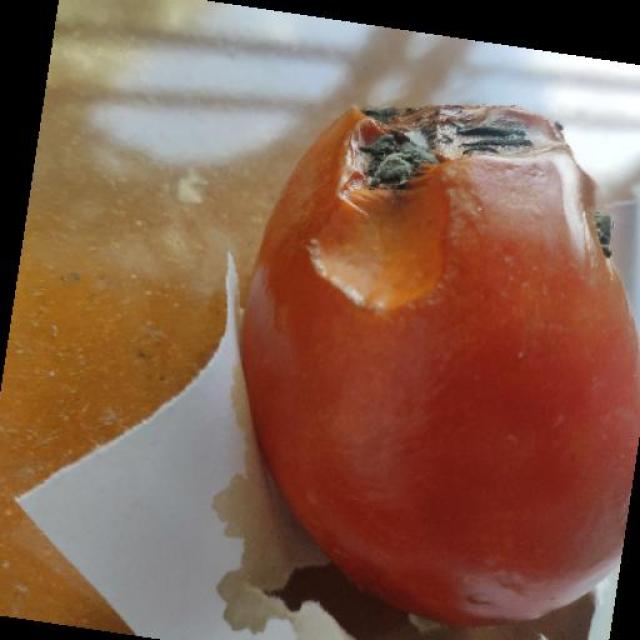Stale_tomato: (239, 83, 640, 622)
